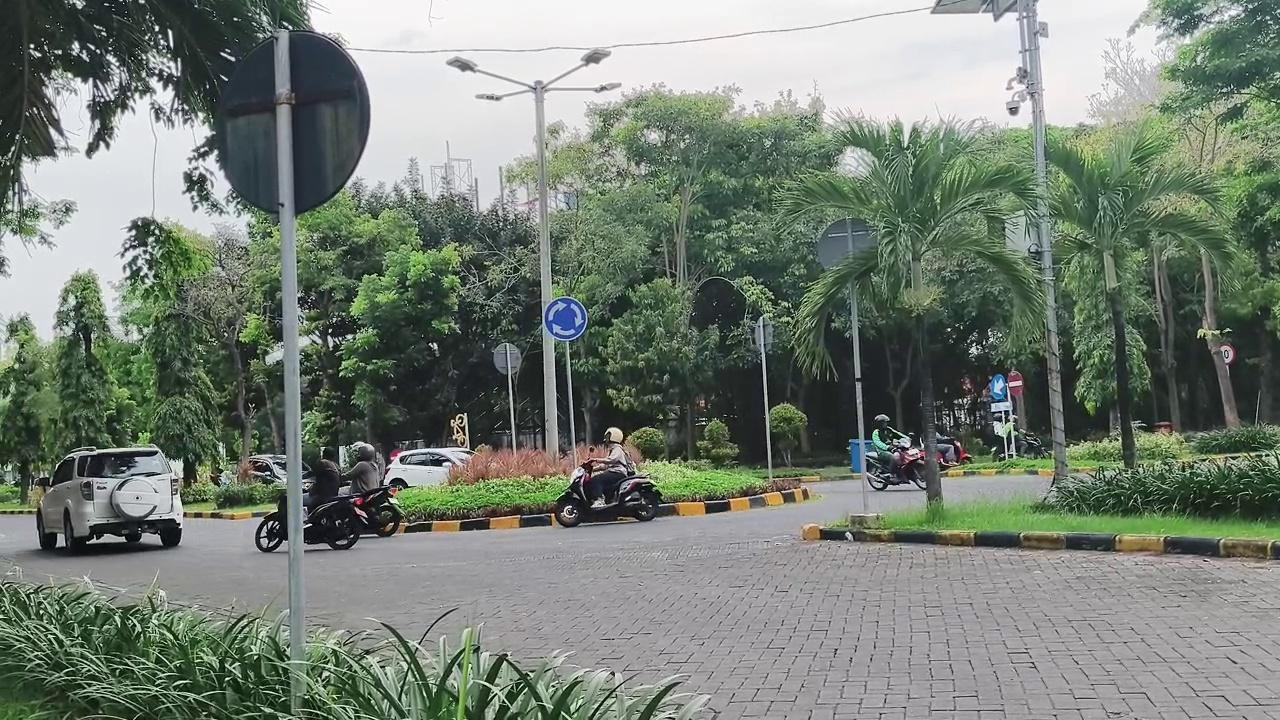Helmet: (586, 427, 635, 507), (304, 447, 341, 507), (871, 414, 907, 471), (342, 442, 381, 494)
Motor: (554, 463, 660, 527), (303, 496, 366, 549), (868, 438, 924, 490), (360, 485, 403, 536), (936, 434, 972, 467), (1015, 431, 1048, 458)
